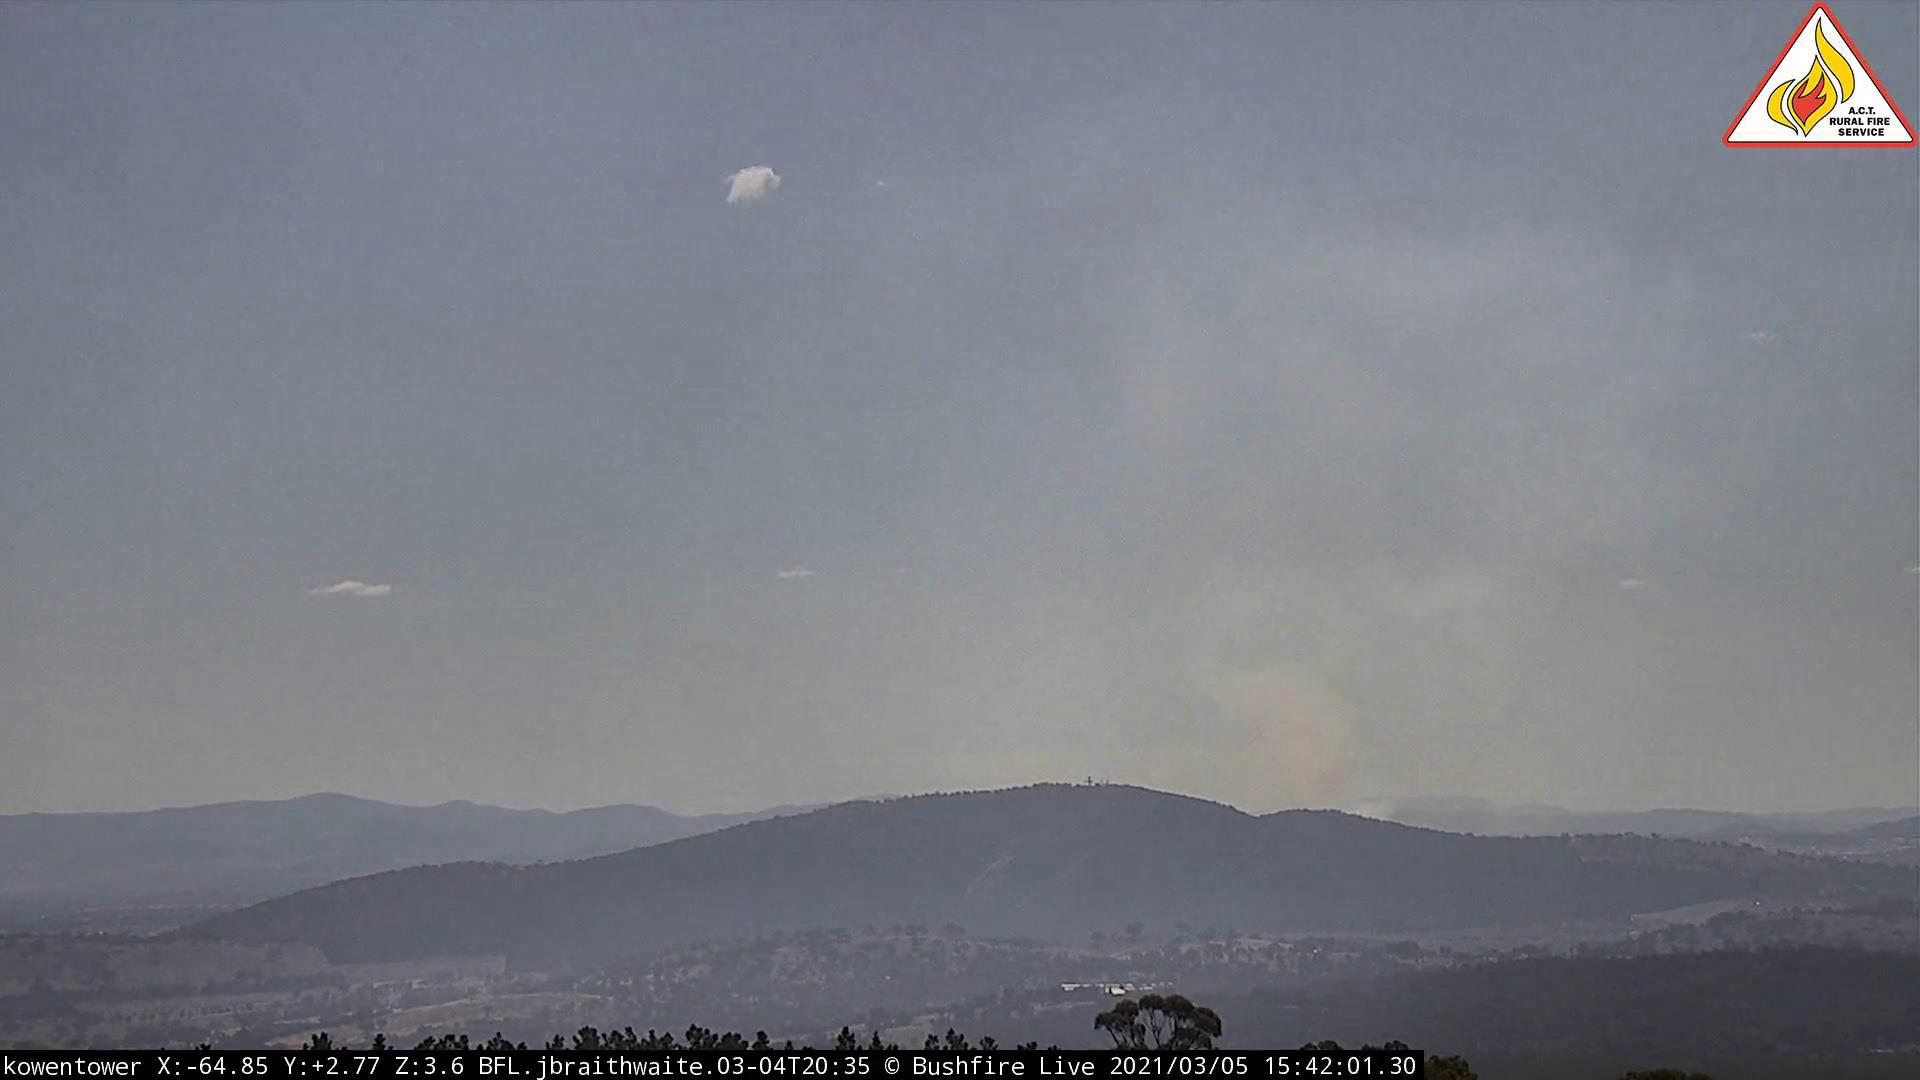instance_salient_object: (807, 222, 1745, 844)
